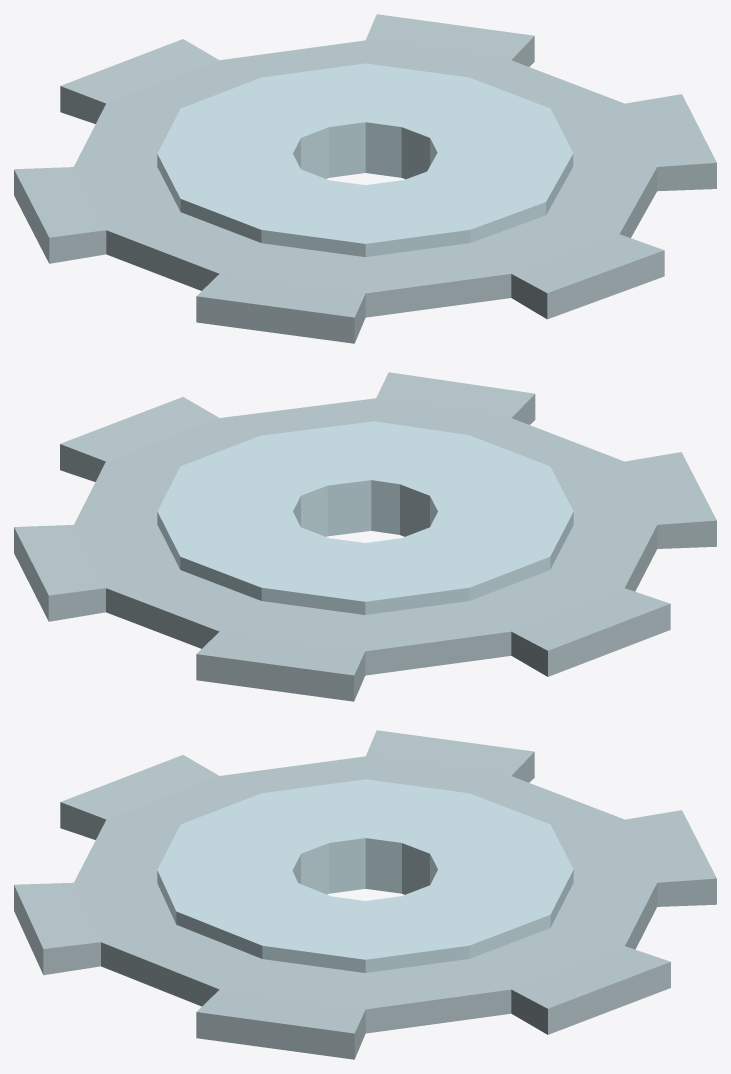
Rendered from Metallic part 2.fbx.
3 renders of one model, top to bottom at view 1: azimuth 30°, elevation 25°; view 2: azimuth 150°, elevation 25°; view 3: azimuth 270°, elevation 25°, orthographic.
Visible parts, largest first — view 1: Metallic part 2; view 2: Metallic part 2; view 3: Metallic part 2.
Part boxes in pixels (bbox=[...]): Metallic part 2: bbox=[14, 14, 716, 343]; Metallic part 2: bbox=[14, 372, 716, 701]; Metallic part 2: bbox=[14, 730, 716, 1059].
Bounding box in the file's own units: 11.9 × 0.9289 × 11.66.
